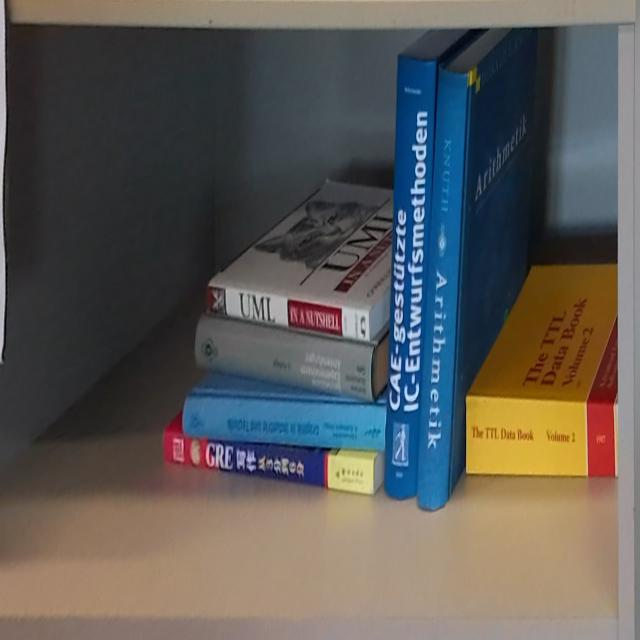Book Spine: (384, 54, 436, 502), (418, 63, 469, 510), (192, 313, 378, 404), (164, 428, 375, 497), (465, 395, 619, 478), (180, 396, 386, 452), (205, 288, 371, 343)
